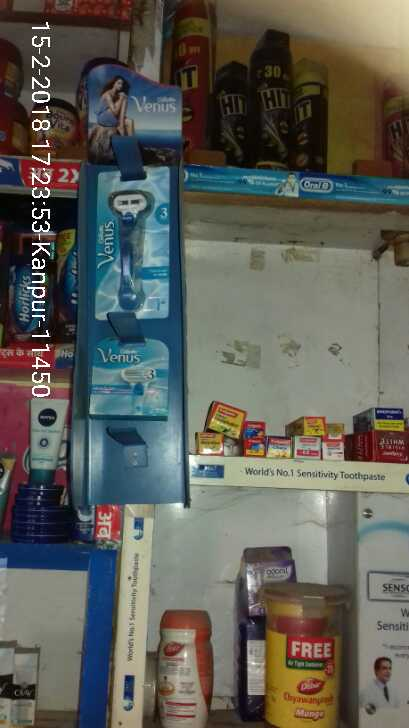venus: (90, 168, 179, 319), (87, 338, 173, 423)
